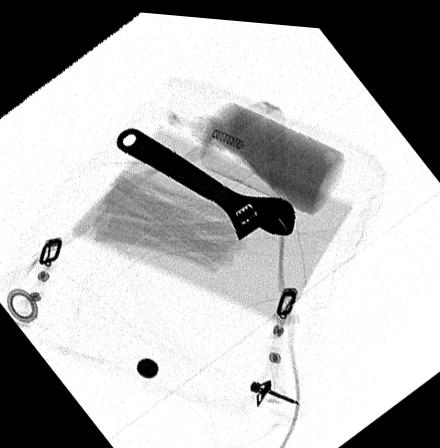Wrench: (113, 123, 296, 238)
